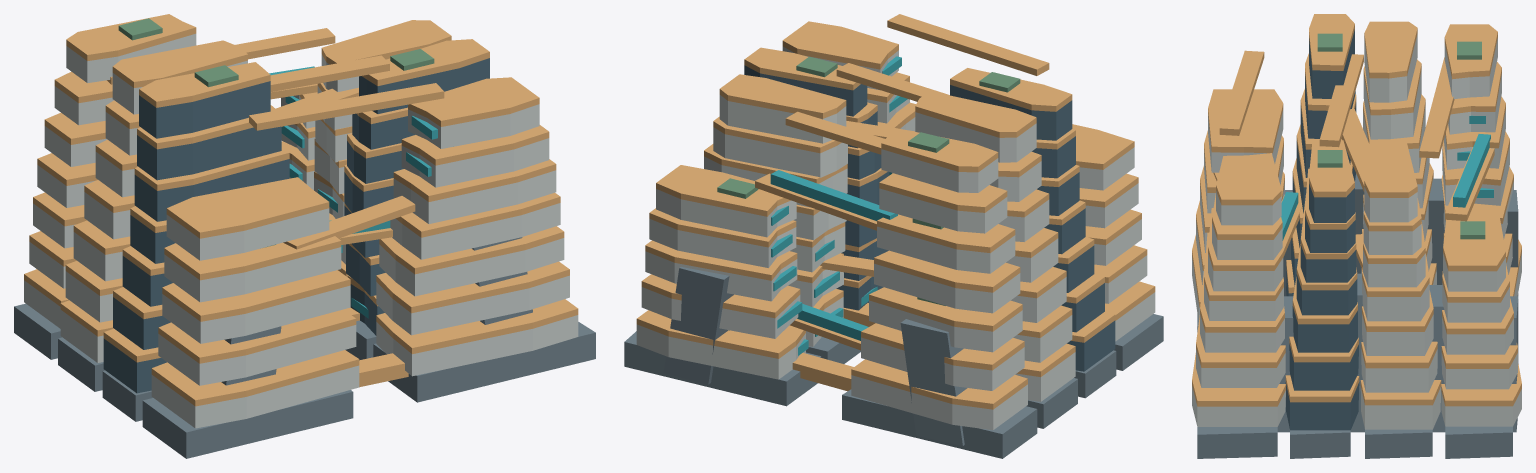
The model's file is a20_faulted_civic_strata.obj.
3 renders of one model, left to right at view 1: azimuth 30°, elevation 25°; view 2: azimuth 150°, elevation 25°; view 3: azimuth 270°, elevation 25°, orthographic. The views are drawn at different scales.
Bounding box in the file's own units: 243 × 174 × 185.
